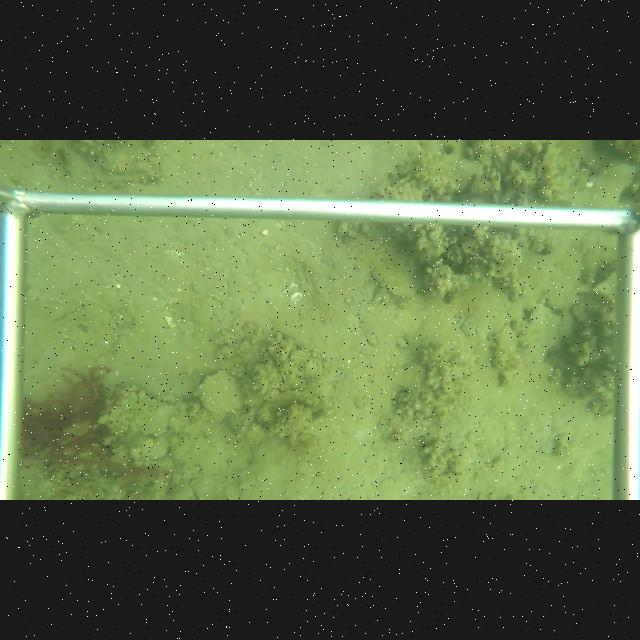Oyster-Closed: (100, 384, 185, 434), (255, 386, 325, 430), (370, 251, 428, 299), (194, 368, 247, 418)
Oyster-Open: (532, 142, 556, 183)
